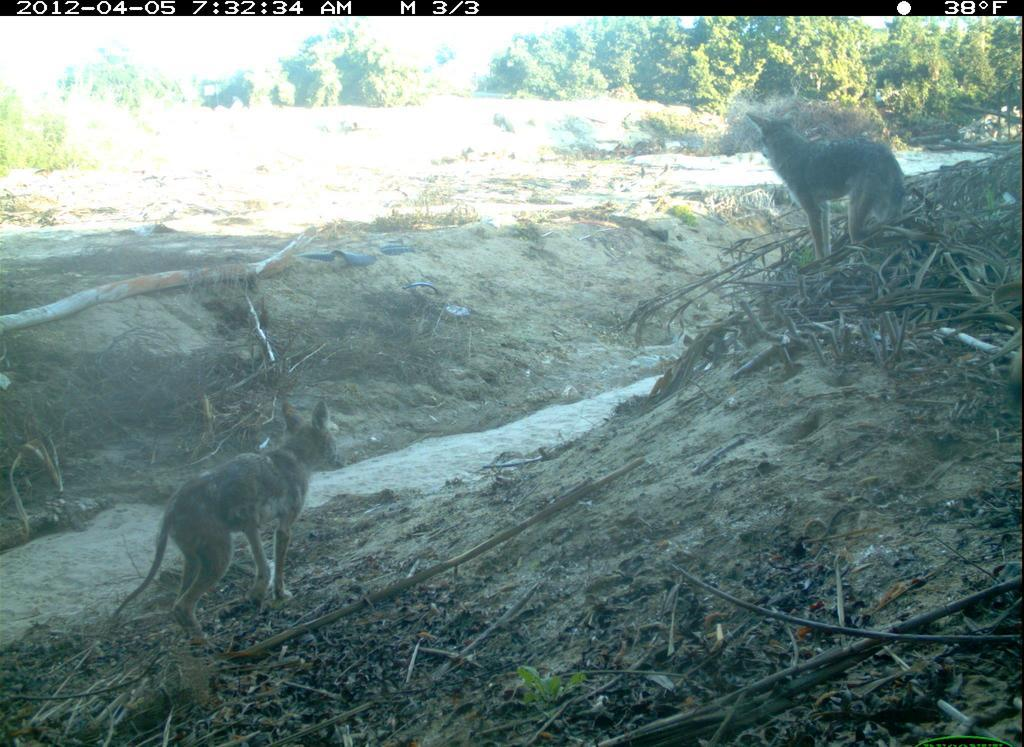coyote: (117, 387, 349, 660), (740, 107, 914, 268)
